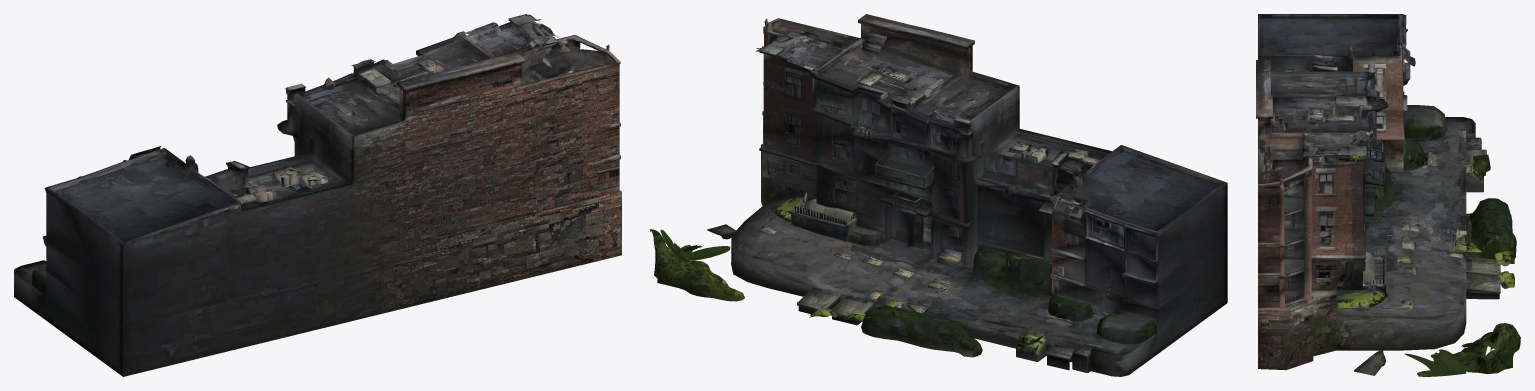
File: landmark-plague-quarter.glb
3 views of the same model, side by side, from view 1: azimuth 30°, elevation 25°; view 2: azimuth 150°, elevation 25°; view 3: azimuth 270°, elevation 25° (orthographic). The views are drawn at different scales.
Parts seen in each view (by area): view 1: landmark-plague-quarter; view 2: landmark-plague-quarter; view 3: landmark-plague-quarter.
Part boxes in pixels (x1,y1,x2,y2): landmark-plague-quarter: (14,14,621,376); landmark-plague-quarter: (650,14,1227,376); landmark-plague-quarter: (1256,14,1520,376).
Bounding box in the file's own units: 0.9995 × 0.4067 × 0.4673.
Materials: 1 (1 with a texture image).
